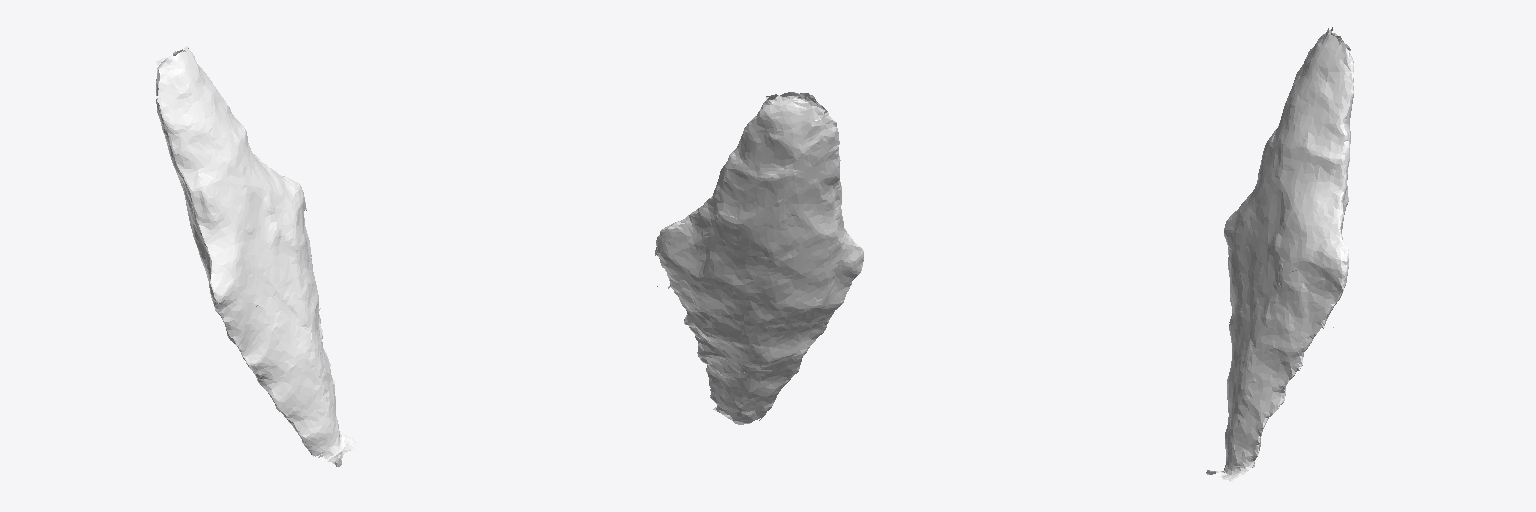
File: pc425real.obj
3 renders of one model, left to right at view 1: azimuth 30°, elevation 25°; view 2: azimuth 150°, elevation 25°; view 3: azimuth 270°, elevation 25°, orthographic.
Parts seen in each view (by area): view 1: pc425; view 2: pc425; view 3: pc425.
Part boxes in pixels (bbox=[...]): pc425: bbox=[156, 46, 356, 466]; pc425: bbox=[655, 92, 863, 424]; pc425: bbox=[1206, 27, 1353, 481].
Size of the model in its own units: 0.184 by 0.4124 by 0.1412.